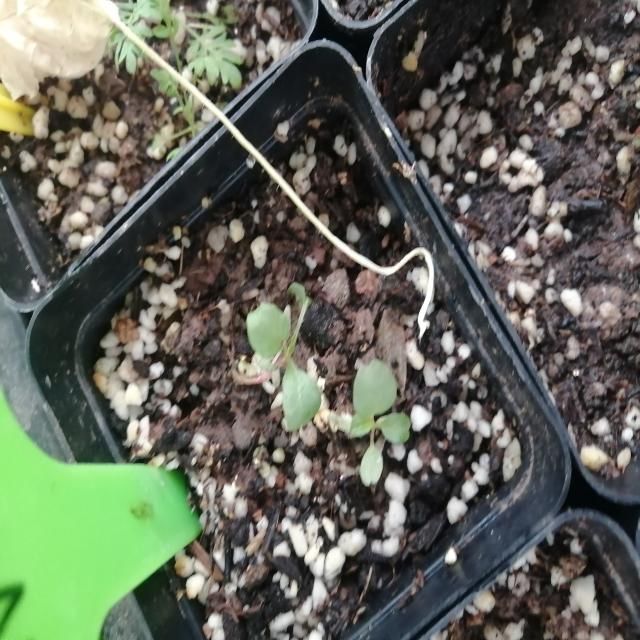pigweed: (330, 354, 424, 486), (236, 289, 310, 431)
